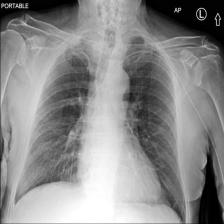normal: (8, 23, 191, 224)
